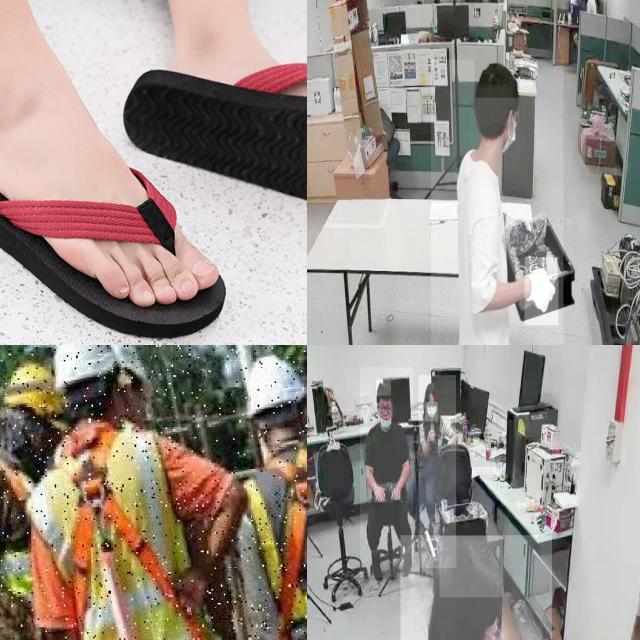Harness: (32, 415, 238, 640), (238, 431, 307, 640)
Sandals: (0, 84, 224, 330)
face_mask: (425, 402, 439, 422)
face_nomask: (378, 398, 392, 424)
hand_glove: (524, 257, 558, 325)
hand_noglove: (374, 484, 386, 503), (391, 484, 402, 501), (426, 425, 436, 442)
head_nohelmet: (439, 536, 504, 598), (474, 60, 520, 98), (376, 379, 392, 396), (424, 382, 438, 396)
person: (431, 59, 564, 345), (400, 535, 552, 640), (360, 367, 414, 578), (418, 375, 456, 568)
